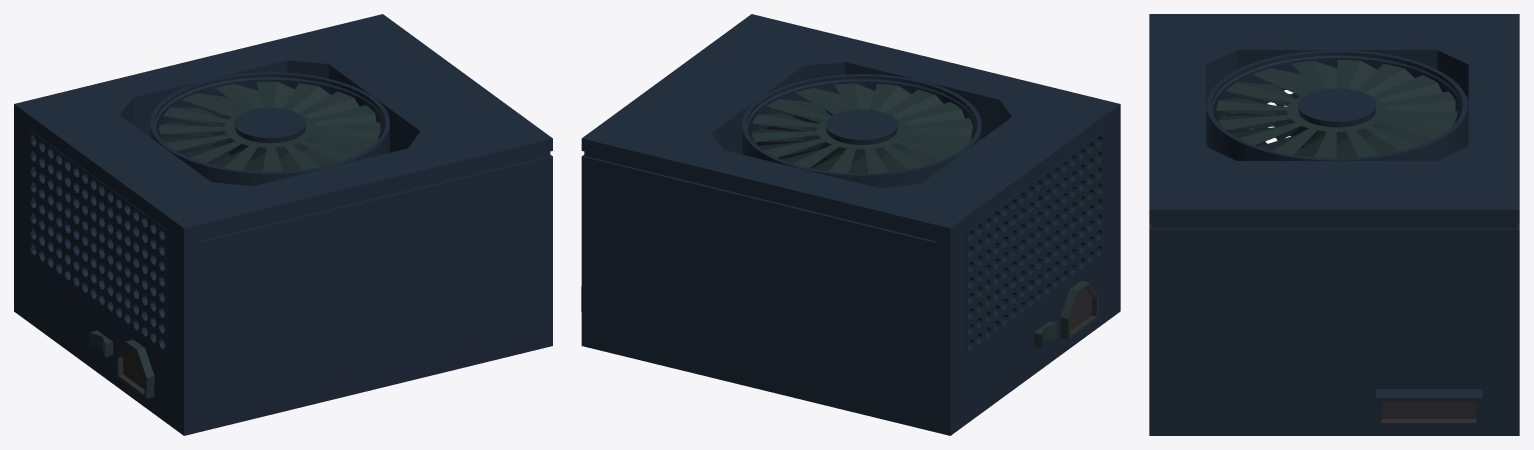
Rendered from block.glb.
3 views of the same model, side by side, from view 1: azimuth 30°, elevation 25°; view 2: azimuth 150°, elevation 25°; view 3: azimuth 270°, elevation 25° (orthographic). The views are drawn at different scales.
Visible parts, largest first — view 1: Cube.149_TexturaComp_0.001, Gear.019_TexturaComp_0.001, Plane.009_TexturaComp_0.001, Plane.008_TexturaComp_0.001, Cylinder.059_TexturaComp_0.001, Cube.151_TexturaComp_0.001, Cube.157_TexturaComp_0.001; view 2: Cube.149_TexturaComp_0.001, Gear.019_TexturaComp_0.001, Plane.009_TexturaComp_0.001, Plane.008_TexturaComp_0.001, Cylinder.059_TexturaComp_0.001, Cube.151_TexturaComp_0.001, Cube.157_TexturaComp_0.001; view 3: Cube.149_TexturaComp_0.001, Gear.019_TexturaComp_0.001, Cylinder.059_TexturaComp_0.001, Cube.151_TexturaComp_0.001, Cube.150_TexturaComp_0.001, Plane.009_TexturaComp_0.001.
Part boxes in pixels (x1,y1,x2,y2): Cube.149_TexturaComp_0.001: [14, 14, 552, 435]; Gear.019_TexturaComp_0.001: [159, 81, 380, 171]; Plane.009_TexturaComp_0.001: [97, 179, 166, 354]; Plane.008_TexturaComp_0.001: [29, 129, 97, 303]; Cylinder.059_TexturaComp_0.001: [150, 72, 389, 186]; Cube.151_TexturaComp_0.001: [97, 50, 443, 196]; Cube.157_TexturaComp_0.001: [116, 339, 154, 398]; Cube.149_TexturaComp_0.001: [581, 14, 1120, 435]; Gear.019_TexturaComp_0.001: [751, 83, 972, 173]; Plane.009_TexturaComp_0.001: [1035, 130, 1103, 305]; Plane.008_TexturaComp_0.001: [966, 181, 1034, 355]; Cylinder.059_TexturaComp_0.001: [742, 74, 981, 187]; Cube.151_TexturaComp_0.001: [688, 51, 1034, 198]; Cube.157_TexturaComp_0.001: [1060, 280, 1098, 339]; Cube.149_TexturaComp_0.001: [1149, 14, 1519, 435]; Gear.019_TexturaComp_0.001: [1216, 60, 1457, 158]; Cylinder.059_TexturaComp_0.001: [1206, 50, 1467, 160]; Cube.151_TexturaComp_0.001: [1198, 47, 1475, 163]; Cube.150_TexturaComp_0.001: [1375, 389, 1482, 426]; Plane.009_TexturaComp_0.001: [1206, 90, 1302, 150].
Bounding box in the file's own units: 0.7493 × 0.378 × 0.5602.
Materials: 1 (1 with a texture image).
